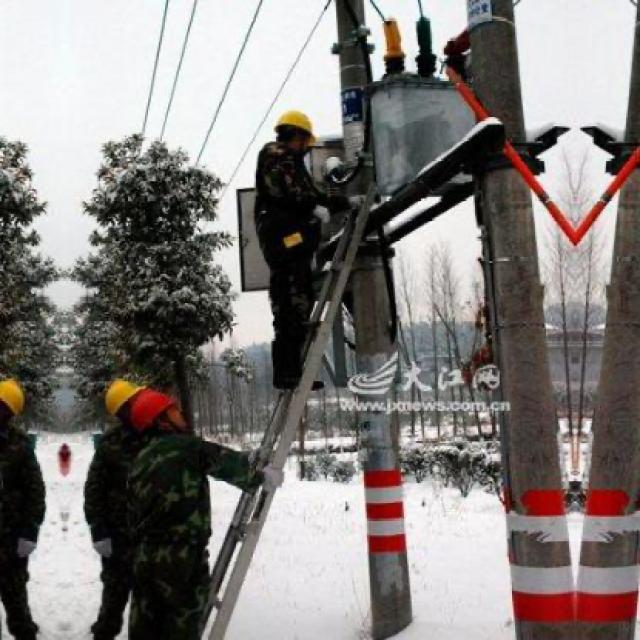helmet: (131, 391, 188, 438), (272, 104, 320, 156), (104, 377, 144, 425), (0, 376, 28, 424)
